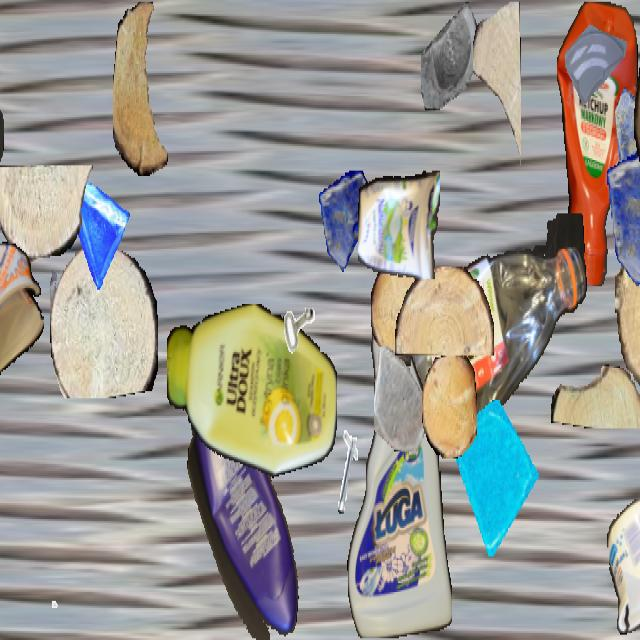glass: (455, 400, 543, 556), (60, 167, 130, 292), (565, 2, 627, 112), (421, 2, 481, 108), (374, 346, 432, 449), (319, 171, 375, 270), (605, 140, 640, 290), (615, 82, 640, 181)
metal: (263, 254, 323, 361), (323, 430, 379, 530), (27, 553, 65, 620)
plastic: (409, 213, 587, 423), (347, 301, 451, 638), (167, 304, 337, 482), (184, 386, 304, 638), (557, 2, 637, 286), (358, 164, 440, 278), (0, 242, 44, 402), (607, 500, 640, 634), (0, 2, 3, 258)
wood: (50, 242, 158, 398), (113, 2, 173, 176), (0, 166, 93, 262), (395, 266, 493, 356), (473, 2, 521, 172), (551, 364, 640, 428), (422, 356, 476, 458), (615, 194, 640, 407), (371, 260, 421, 366), (634, 2, 640, 229)
